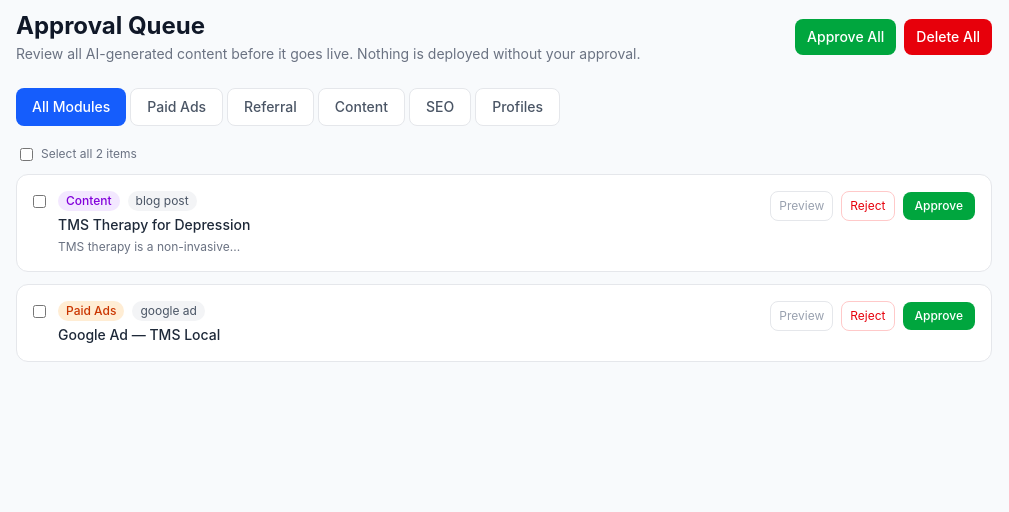
it: Approval Queue page › shows rejection form when Reject is clicked
Click the button "Reject" in the row of "TMS Therapy for Depression". click: (868, 206)
box: left=841, top=191, right=894, bottom=221
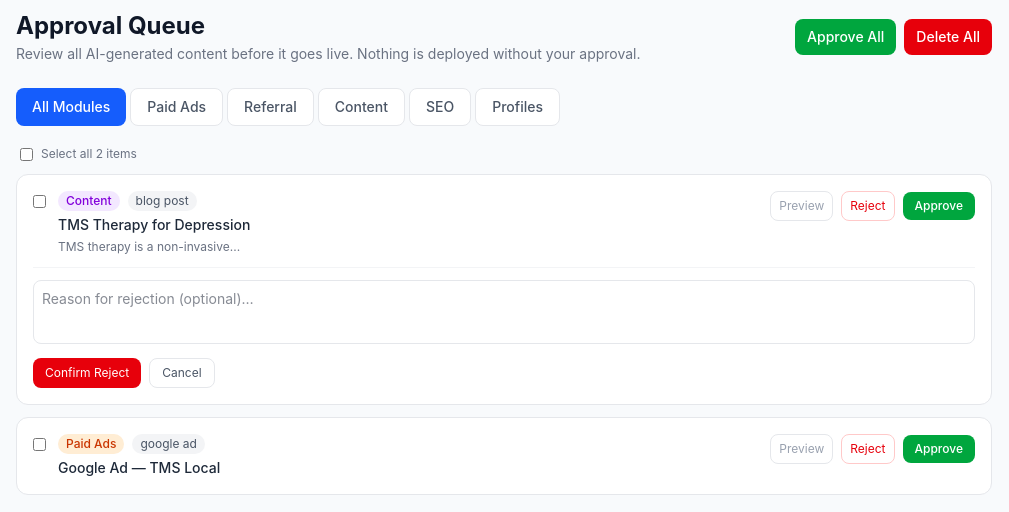
Check: the text box with placeholder "Reason for rejection (optional)…" is shown, box left=33, top=280, right=975, bottom=344
Check: the button "Confirm Reject" is shown, box left=33, top=358, right=141, bottom=388
Check: the button "Cancel" is shown, box left=149, top=358, right=215, bottom=388
